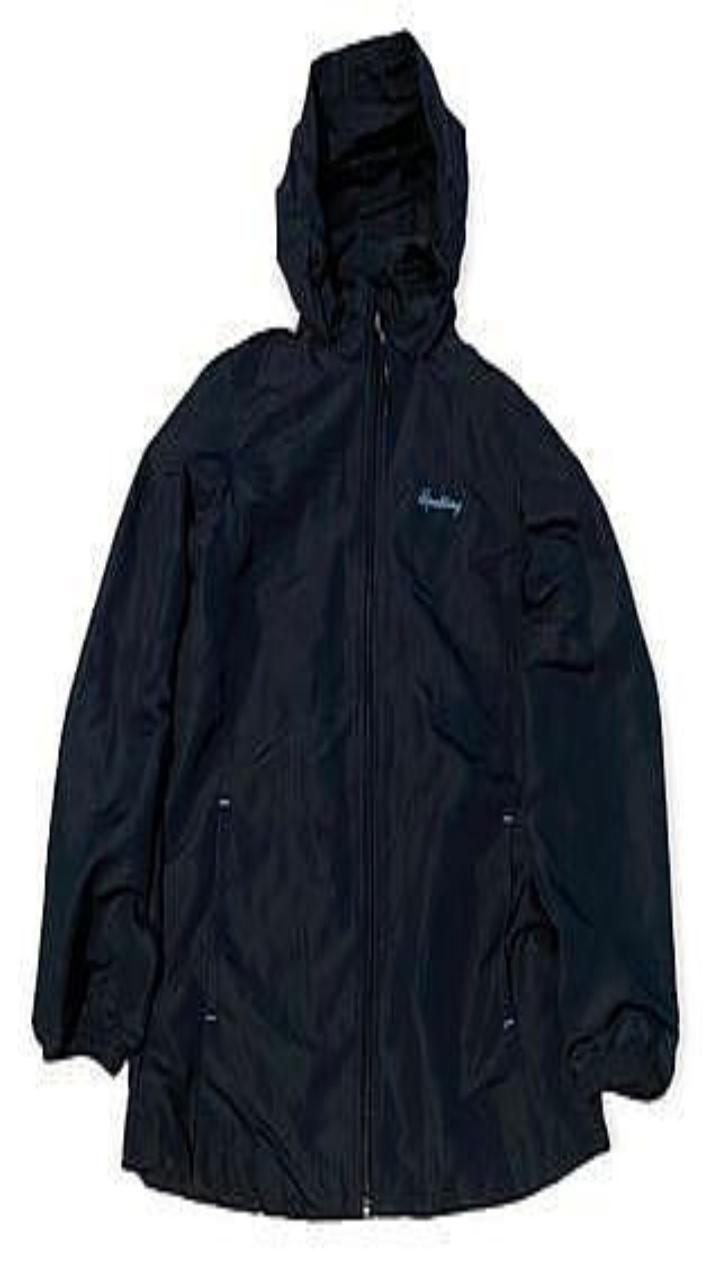Sports_Jacket: (32, 31, 677, 1217)
